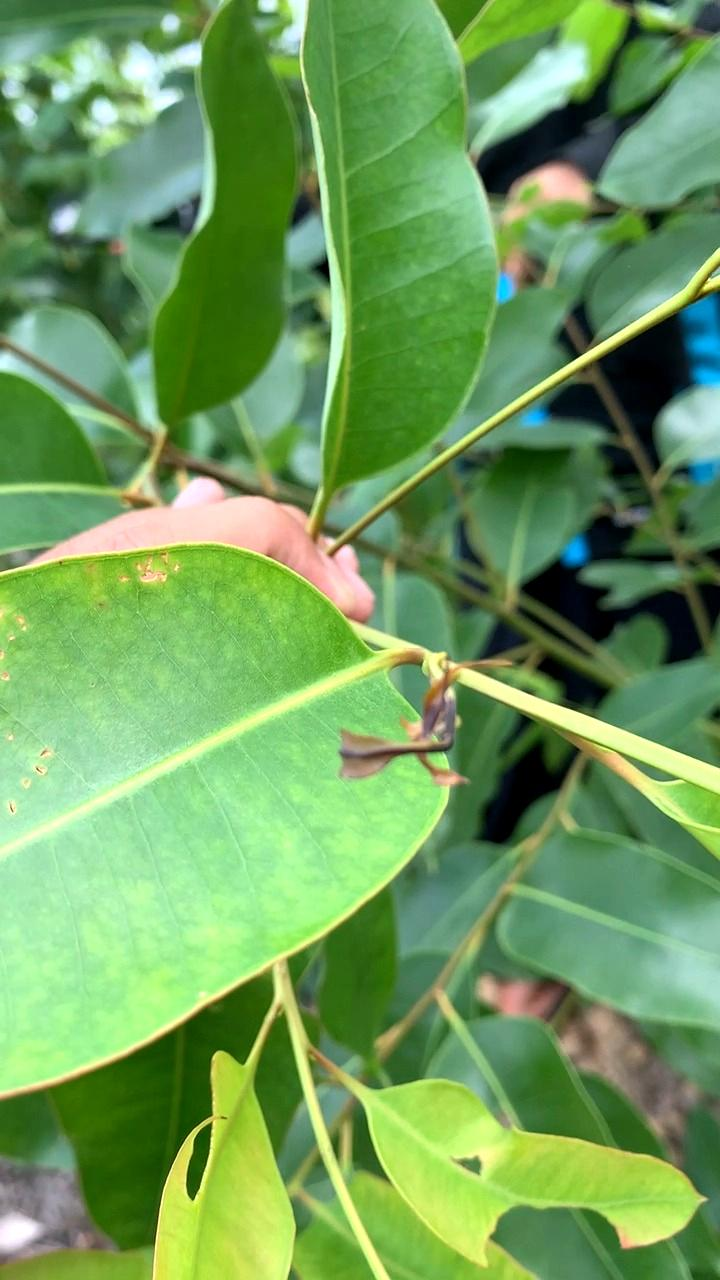Helopeltis-Withered Sprout: (326, 658, 543, 797)
